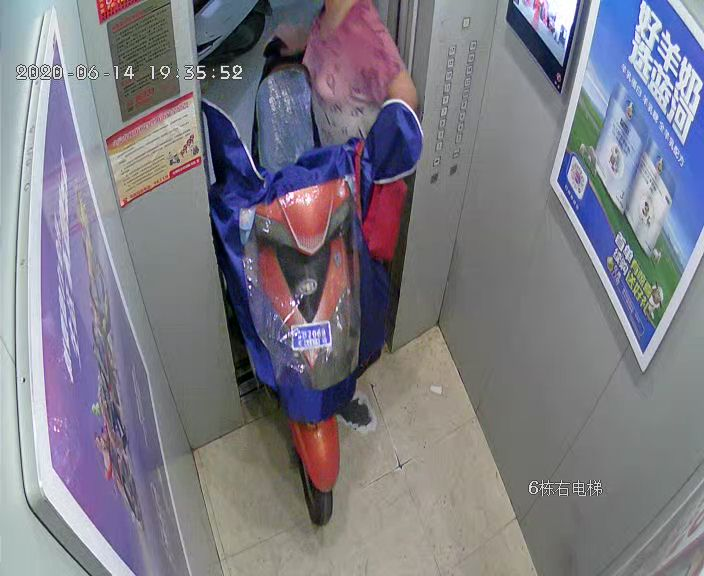Electric-bicycle: (223, 36, 414, 530)
